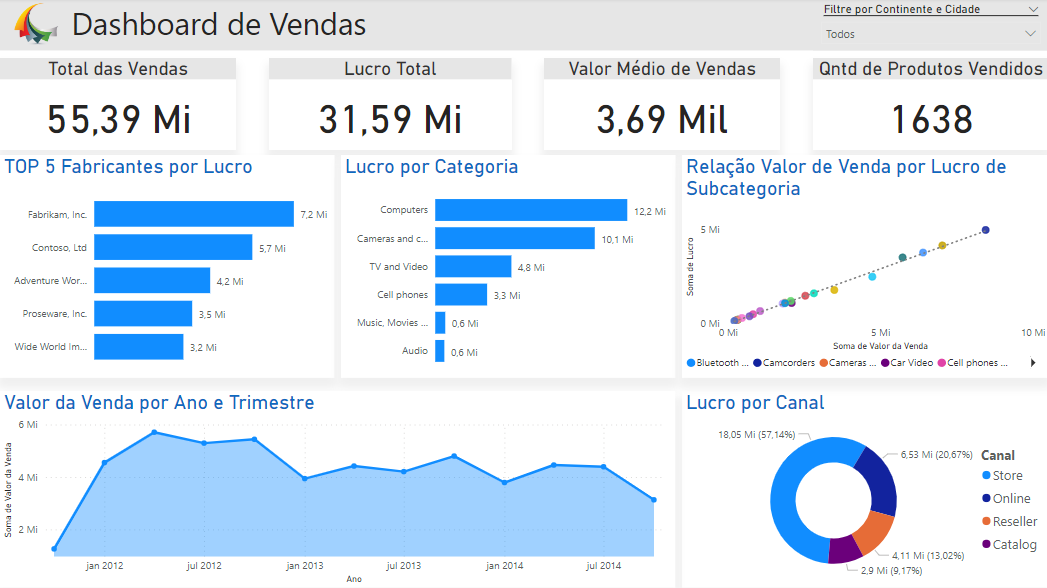

What the dashboard file says about the page in this screenshot:
{"tool":"powerbi","page":{"name":"Overview","canvas":[1280,720],"ordinal":0},"visuals":[{"type":"shape","box":[0,0,1280,64],"z":0},{"type":"shape","box":[0,72.6,288,112],"z":0,"group":"g1"},{"type":"shape","box":[328,72.6,296,112],"z":0,"group":"g2"},{"type":"shape","box":[664,72.6,288,112],"z":0,"group":"g4"},{"type":"shape","box":[992,72.6,288,112],"z":0,"group":"g3"},{"type":"textbox","box":[0,0,1280,64],"z":1000},{"type":"card","title":"Total das Vendas","fields":{"Values":["Sum(Data1.Valor da Venda)"]},"box":[0,72.6,288,112],"z":1000,"group":"g1"},{"type":"card","title":"Lucro Total","fields":{"Values":["Sum(Data1.Lucro)"]},"box":[328,72.6,296,112],"z":1000,"group":"g2"},{"type":"card","title":"Valor Médio de Vendas","fields":{"Values":["Avg(Data1.Valor da Venda)"]},"box":[664,72.6,288,112],"z":1000,"group":"g4"},{"type":"card","title":"Qntd de Produtos Vendidos","fields":{"Values":["Count(Data1.Produto)"]},"box":[992,72.6,288,112],"z":1000,"group":"g3"},{"type":"image","box":[0,0,88.7,64.2],"z":2000},{"type":"group","id":"g1","title":"Grupo 1","box":[0,72.6,288,112],"z":3000},{"type":"group","id":"g2","title":"Grupo 1","box":[328,72.6,296,112],"z":4000},{"type":"clusteredBarChart","title":"TOP 5 Fabricantes por Lucro ","fields":{"Category":["Data1.Fabricante"],"Y":["Sum(Data1.Lucro)"]},"box":[0,192,408,272],"z":5000},{"type":"group","id":"g3","title":"Grupo 1","box":[992,72.6,288,112],"z":6000},{"type":"group","id":"g4","title":"Grupo 1","box":[664,72.6,288,112],"z":7000},{"type":"donutChart","title":"Lucro por Canal","fields":{"Y":["Sum(Data1.Lucro)"],"Category":["Data1.Canal"]},"box":[832,480,448,240],"z":8000},{"type":"clusteredBarChart","title":"Lucro por Categoria","fields":{"Category":["Data1.Categoria"],"Y":["Sum(Data1.Lucro)"]},"box":[416,192,408,272],"z":9000},{"type":"areaChart","title":"Soma do Valor da Venda por Ano e Trimestre","fields":{"Category":["Data1.Data Venda.Variation.Hierarquia de datas.Ano","Data1.Data Venda.Variation.Hierarquia de datas.Trimestre"],"Y":["Sum(Data1.Valor da Venda)"]},"box":[0,480,824,240],"z":10000},{"type":"scatterChart","title":"Relação Valor de Venda por Lucro de Subcategoria","fields":{"Y":["Sum(Data1.Lucro)"],"X":["Sum(Data1.Valor da Venda)"],"Category":["Data1.Subcategoria"],"Series":["Data1.Subcategoria"]},"box":[832,192,448,272],"z":11000},{"type":"slicer","fields":{"Values":["Data1.Continente","Data1.Cidade"]},"box":[992,0,288,64],"z":12000},{"type":"slicer","title":"Filtre o Intervalo de Tempo","fields":{"Values":["Data1.Data Venda"]},"box":[694.4,1.2,225.8,63.5],"z":12001}]}

Visuals, with their boxes in screenshot pixels (x1, y1, x2, y2), scaled from the page's 1280x720 canvas onto the 1047x588 screenshot:
shape: region(0, 0, 1046, 52)
shape: region(0, 59, 236, 151)
shape: region(268, 59, 510, 151)
shape: region(543, 59, 779, 151)
shape: region(811, 59, 1046, 151)
textbox: region(0, 0, 1046, 52)
"Total das Vendas" card: region(0, 59, 236, 151)
"Lucro Total" card: region(268, 59, 510, 151)
"Valor Médio de Vendas" card: region(543, 59, 779, 151)
"Qntd de Produtos Vendidos" card: region(811, 59, 1046, 151)
image: region(0, 0, 73, 52)
"Grupo 1" group: region(0, 59, 236, 151)
"Grupo 1" group: region(268, 59, 510, 151)
"TOP 5 Fabricantes por Lucro " clusteredBarChart: region(0, 157, 334, 379)
"Grupo 1" group: region(811, 59, 1046, 151)
"Grupo 1" group: region(543, 59, 779, 151)
"Lucro por Canal" donutChart: region(681, 392, 1046, 587)
"Lucro por Categoria" clusteredBarChart: region(340, 157, 674, 379)
"Soma do Valor da Venda por Ano e Trimestre" areaChart: region(0, 392, 674, 587)
"Relação Valor de Venda por Lucro de Subcategoria" scatterChart: region(681, 157, 1046, 379)
slicer - Data1.Continente x Data1.Cidade: region(811, 0, 1046, 52)
"Filtre o Intervalo de Tempo" slicer: region(568, 1, 753, 53)
